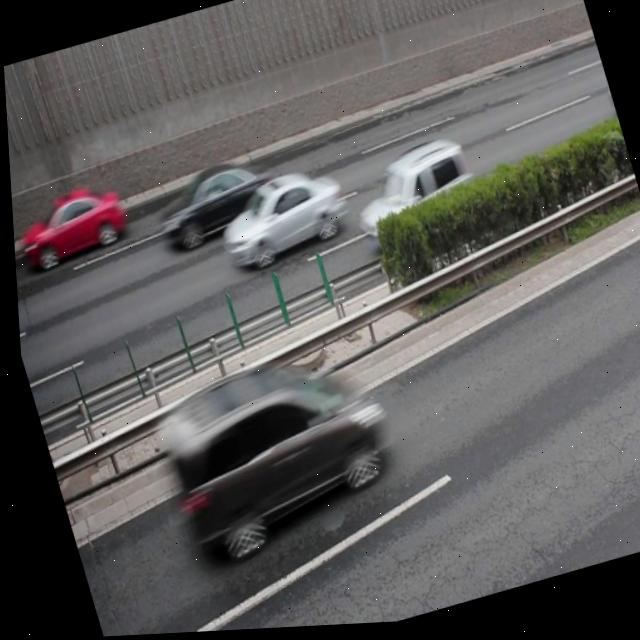car: (339, 135, 485, 262), (205, 160, 352, 276), (141, 153, 281, 259), (8, 175, 131, 274)
truck: (140, 342, 397, 568)
